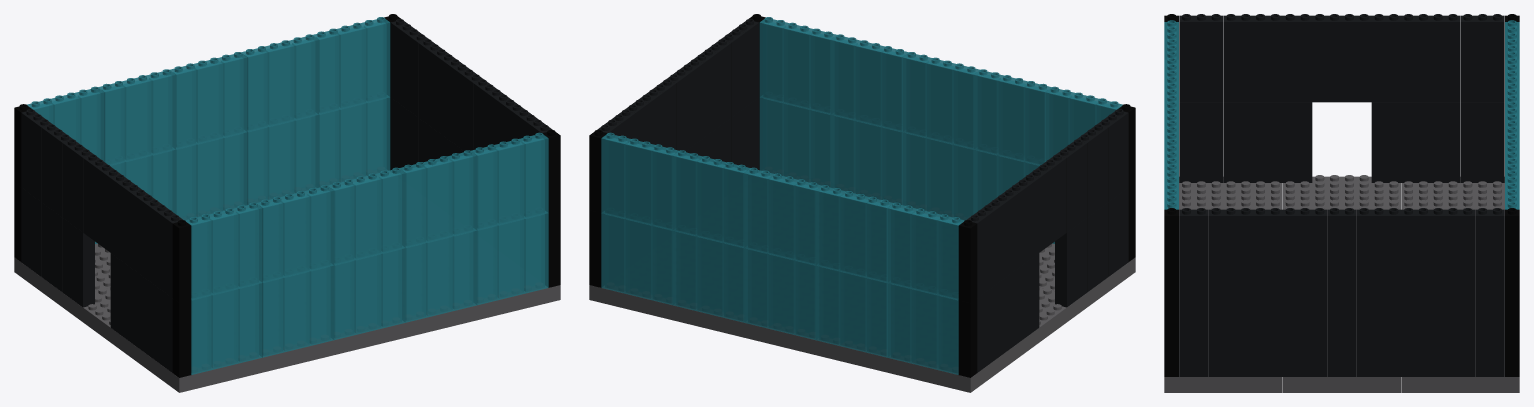
The model's file is Room.dae.
The picture shows the model from 3 angles, left to right: view 1: azimuth 30°, elevation 25°; view 2: azimuth 150°, elevation 25°; view 3: azimuth 270°, elevation 25°; orthographic projection. The views are drawn at different scales.
Visible parts, largest first — view 1: Part_3754.28, Part_3754.32, Part_3754.20, Part_3754.34, Part_3754.26, Part_3754.30, Part_3754.16, Part_3754.18, Part_3754.22, Part_3754.27, Part_3754.31, Part_3754.33 (+43 smaller); view 2: Part_3754.22, Part_3754.18, Part_3754.16, Part_3754.20, Part_3754.24, Part_3754.30, Part_3754.34, Part_3754.32, Part_3754.28, Part_3754.17, Part_3754.21, Part_3754.15 (+43 smaller); view 3: Part_3755.38, Part_3755.40, Part_3755.42, Part_3755.44, Part_3755.36, Part_3755.46, Part_4204.2, Part_3755.35, Part_3755.37, Part_3755.43, Part_3755.45, Part_3755.39 (+44 smaller).
Boxes of the visible parts, x1,y1,x2,y2 form: Part_3754.28: [256, 185, 334, 282]; Part_3754.32: [399, 150, 477, 247]; Part_3754.20: [170, 52, 247, 149]; Part_3754.34: [471, 132, 548, 230]; Part_3754.26: [185, 202, 262, 300]; Part_3754.30: [328, 167, 405, 265]; Part_3754.16: [313, 17, 390, 114]; Part_3754.18: [241, 34, 318, 131]; Part_3754.22: [98, 69, 175, 165]; Part_3754.27: [262, 265, 334, 357]; Part_3754.31: [405, 230, 477, 322]; Part_3754.33: [477, 213, 548, 305]; Part_3754.22: [815, 185, 893, 282]; Part_3754.18: [672, 150, 750, 247]; Part_3754.16: [601, 132, 678, 230]; Part_3754.20: [744, 167, 821, 265]; Part_3754.24: [887, 202, 964, 300]; Part_3754.30: [902, 52, 979, 149]; Part_3754.34: [759, 17, 836, 114]; Part_3754.32: [831, 34, 908, 131]; Part_3754.28: [974, 69, 1051, 165]; Part_3754.17: [672, 230, 744, 322]; Part_3754.21: [815, 265, 887, 357]; Part_3754.15: [601, 213, 672, 305]; Part_3755.38: [1416, 14, 1460, 102]; Part_3755.40: [1371, 14, 1415, 102]; Part_3755.42: [1268, 14, 1312, 102]; Part_3755.44: [1223, 14, 1267, 102]; Part_3755.36: [1460, 14, 1504, 102]; Part_3755.46: [1179, 14, 1223, 102]; Part_4204.2: [1283, 175, 1400, 276]; Part_3755.35: [1460, 102, 1504, 182]; Part_3755.37: [1416, 102, 1460, 182]; Part_3755.43: [1223, 102, 1267, 182]; Part_3755.45: [1179, 102, 1223, 182]; Part_3755.39: [1371, 102, 1415, 182].
Bounding box in the file's own units: 256 × 107 × 192.
